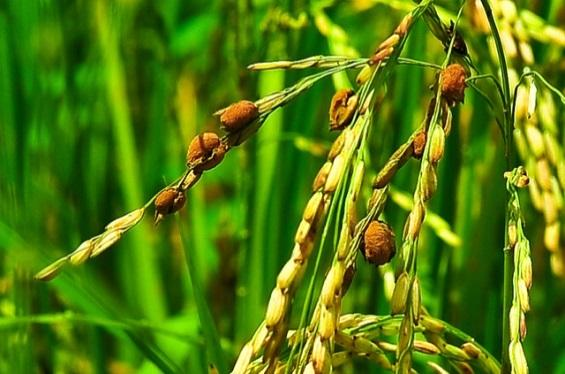False Smut: (297, 120, 374, 152), (161, 232, 235, 265), (358, 141, 423, 175), (360, 214, 431, 245), (408, 281, 473, 313), (228, 96, 283, 124), (320, 267, 377, 291)
